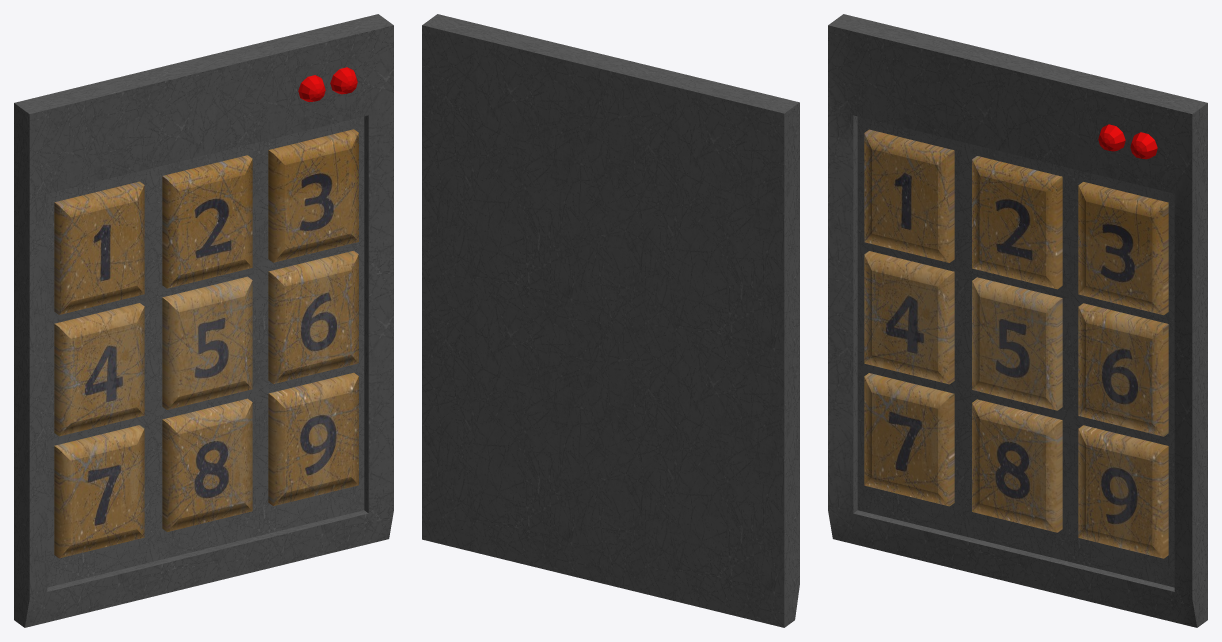
The model's file is KeyPad.fbx.
3 views of the same model, side by side, from view 1: azimuth 30°, elevation 25°; view 2: azimuth 150°, elevation 25°; view 3: azimuth 330°, elevation 25° (orthographic).
Visible parts, largest first — view 1: Keypad_main, One, Two, Three, Four, Five, Seven, Eight, Nine, Six; view 2: Keypad_main; view 3: Keypad_main, Six, Three, Five, Seven, Eight, Nine, One, Two, Four.
Part boxes in pixels (bbox=[...]): Keypad_main: bbox=[14, 14, 393, 627]; One: bbox=[54, 181, 144, 314]; Two: bbox=[162, 155, 252, 288]; Three: bbox=[268, 129, 358, 262]; Four: bbox=[54, 303, 144, 436]; Five: bbox=[162, 276, 252, 409]; Seven: bbox=[54, 425, 144, 558]; Eight: bbox=[162, 398, 252, 531]; Nine: bbox=[268, 372, 358, 505]; Six: bbox=[268, 250, 358, 383]; Keypad_main: bbox=[422, 14, 799, 627]; Keypad_main: bbox=[828, 14, 1207, 627]; Six: bbox=[1078, 303, 1168, 436]; Three: bbox=[1078, 182, 1168, 315]; Five: bbox=[972, 277, 1062, 410]; Seven: bbox=[864, 373, 954, 506]; Eight: bbox=[972, 399, 1062, 532]; Nine: bbox=[1078, 425, 1168, 558]; One: bbox=[864, 129, 954, 262]; Two: bbox=[972, 156, 1062, 289]; Four: bbox=[864, 251, 954, 384].
Size of the model in its own units: 15.49 by 21.01 by 1.59.
Materials: 3 (2 with a texture image).
